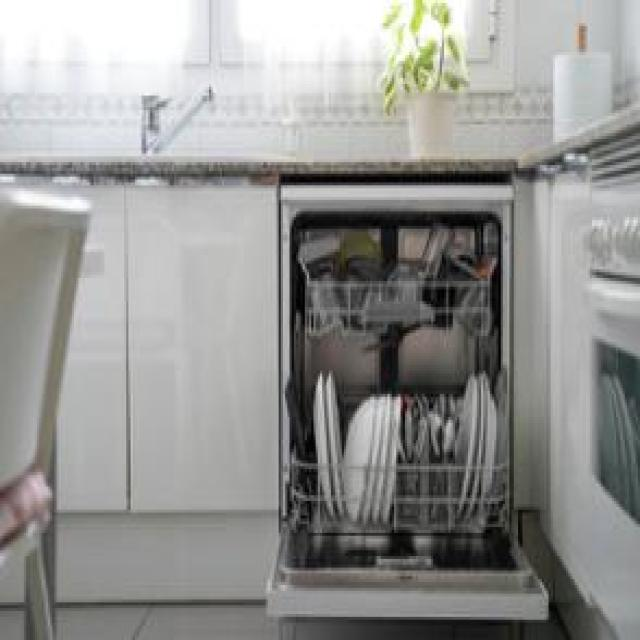dishwasher: (268, 168, 546, 617)
